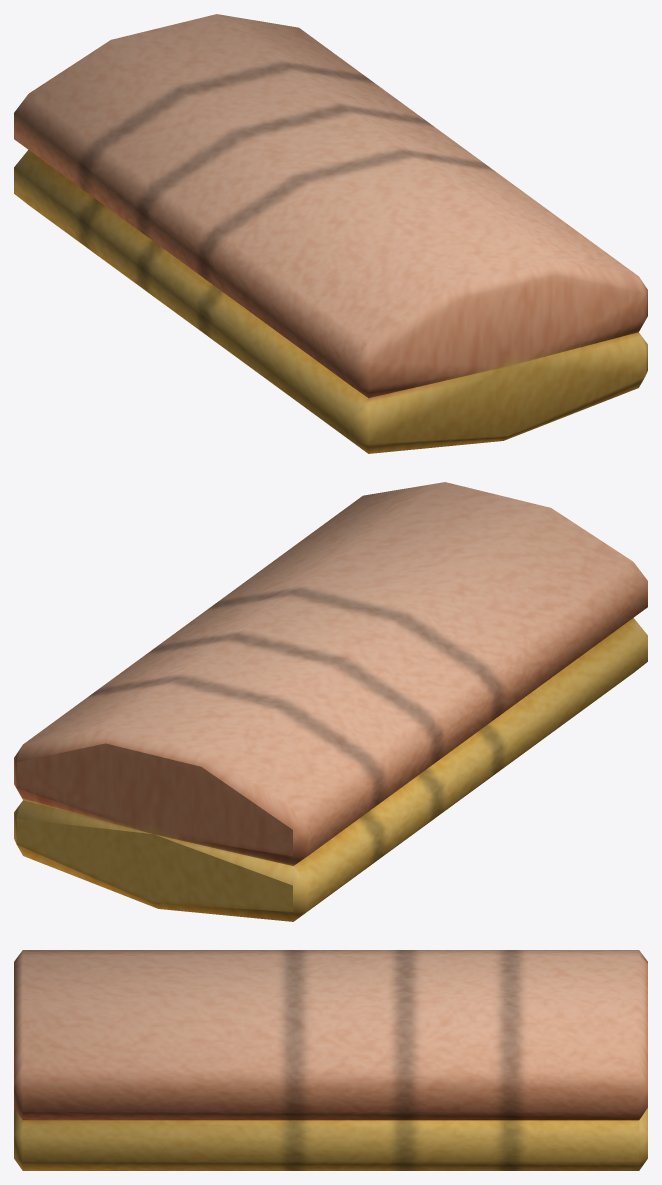
The model's file is BianLiDian_01_maojin_01.FBX.
3 renders of one model, top to bottom at view 1: azimuth 30°, elevation 25°; view 2: azimuth 150°, elevation 25°; view 3: azimuth 270°, elevation 25°, orthographic. The views are drawn at different scales.
Visible parts, largest first — view 1: BianLiDian_01_maojin_01; view 2: BianLiDian_01_maojin_01; view 3: BianLiDian_01_maojin_01.
Part boxes in pixels (x1=…): BianLiDian_01_maojin_01: x1=14, y1=14, x2=647, y2=453; BianLiDian_01_maojin_01: x1=14, y1=482, x2=647, y2=921; BianLiDian_01_maojin_01: x1=14, y1=950, x2=647, y2=1170.
Bounding box in the file's own units: 54.81 × 29.42 × 113.
